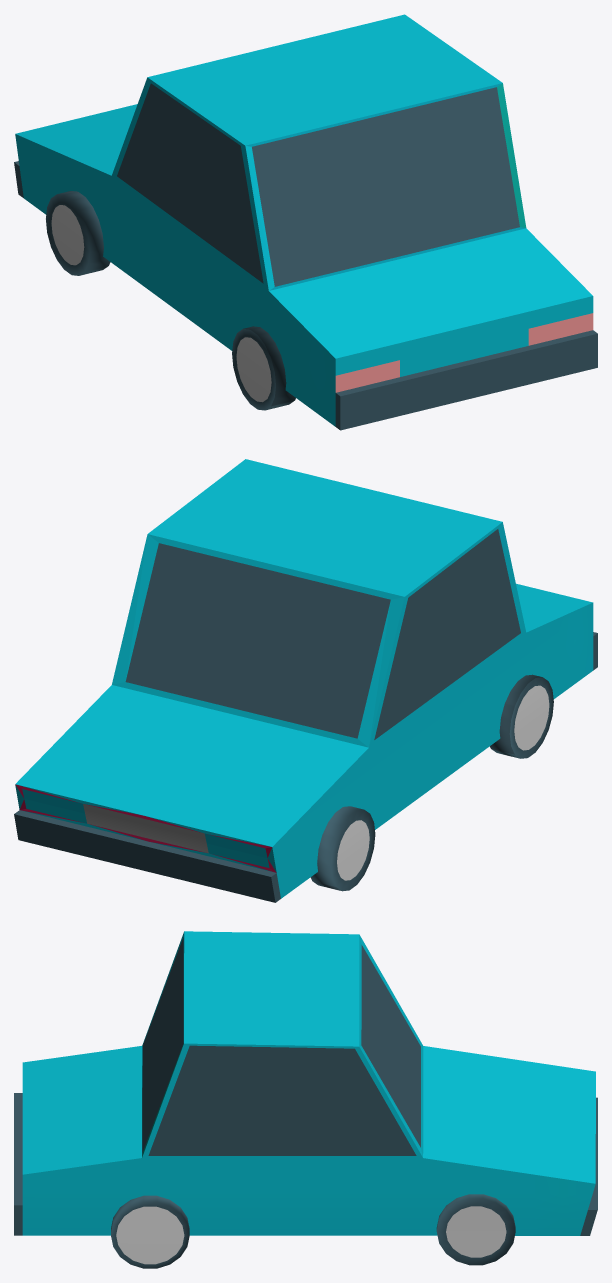
The model's file is car.fbx.
The picture shows the model from 3 angles, top to bottom: view 1: azimuth 30°, elevation 25°; view 2: azimuth 150°, elevation 25°; view 3: azimuth 270°, elevation 25°; orthographic projection. The views are drawn at different scales.
Visible parts, largest first — view 1: Car; view 2: Car; view 3: Car.
Boxes of the visible parts, box(x1,y1,x2,y2) form: Car: box(14, 14, 597, 430); Car: box(14, 459, 597, 902); Car: box(14, 931, 597, 1268).
Bounding box in the file's own units: 74.41 × 60.93 × 147.
Materials: 1 (1 with a texture image).
